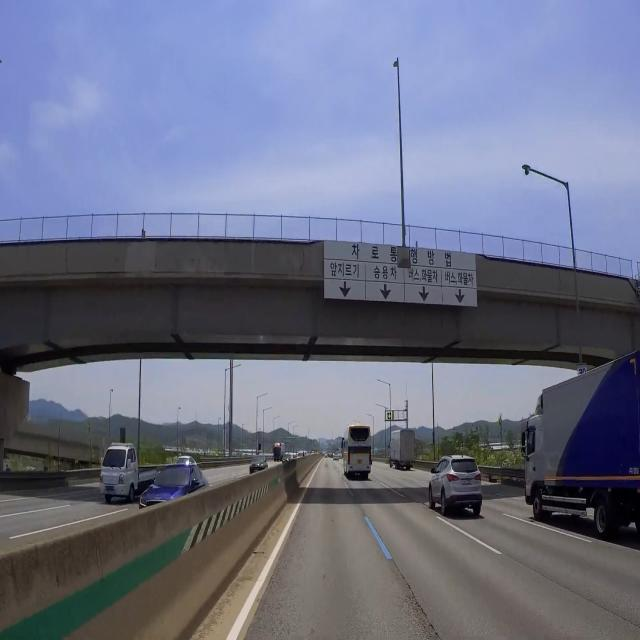car: (459, 475, 476, 491), (103, 480, 116, 499), (356, 457, 366, 470)
